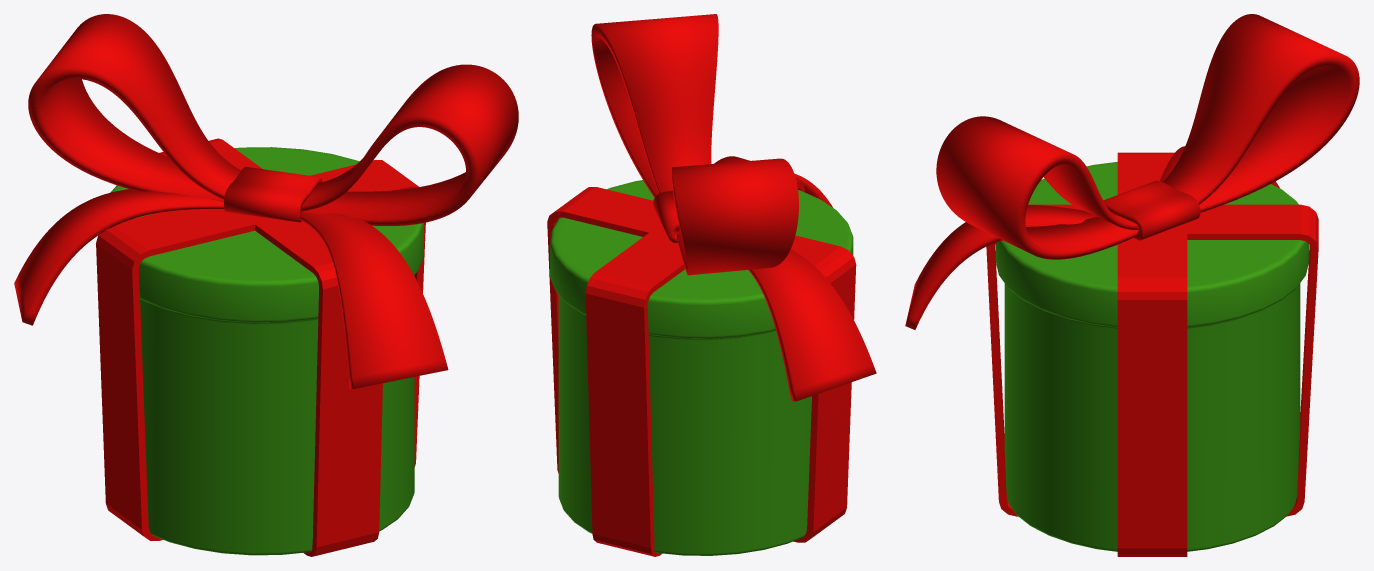
The model's file is GiftBoxRoundTall.fbx.
3 renders of one model, left to right at view 1: azimuth 30°, elevation 25°; view 2: azimuth 150°, elevation 25°; view 3: azimuth 270°, elevation 25°, orthographic. The views are drawn at different scales.
Parts seen in each view (by area): view 1: NurbsPath.020, Cylinder.002, Cube.011; view 2: Cylinder.002, NurbsPath.020, Cube.011; view 3: Cylinder.002, NurbsPath.020, Cube.011.
Part boxes in pixels (left/top/right/bottom): NurbsPath.020: left=14, top=14, right=518, bottom=388; Cylinder.002: left=110, top=147, right=423, bottom=555; Cube.011: left=96, top=138, right=425, bottom=556; Cylinder.002: left=550, top=180, right=853, bottom=555; NurbsPath.020: left=591, top=14, right=876, bottom=401; Cube.011: left=547, top=180, right=856, bottom=556; Cylinder.002: left=995, top=162, right=1309, bottom=551; NurbsPath.020: left=905, top=14, right=1359, bottom=329; Cube.011: left=986, top=152, right=1318, bottom=556.
Size of the model in its own units: 301 by 311 by 307.
